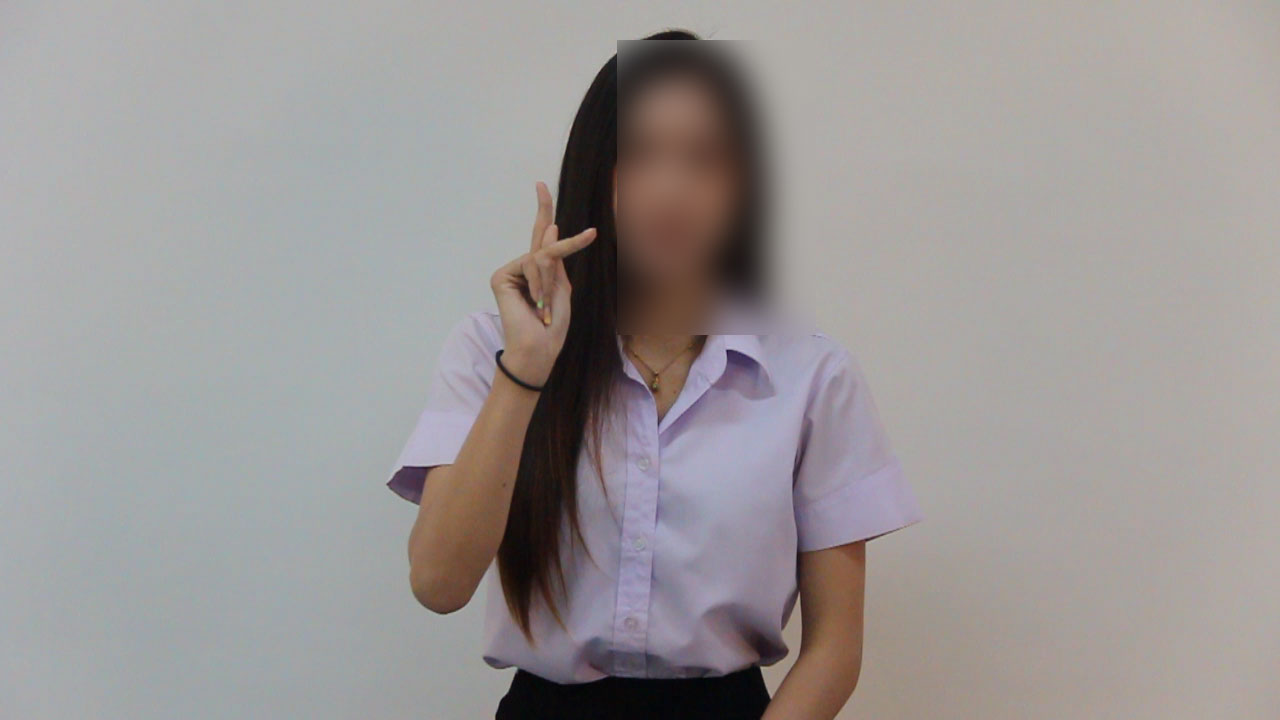ko: (476, 173, 603, 380)
